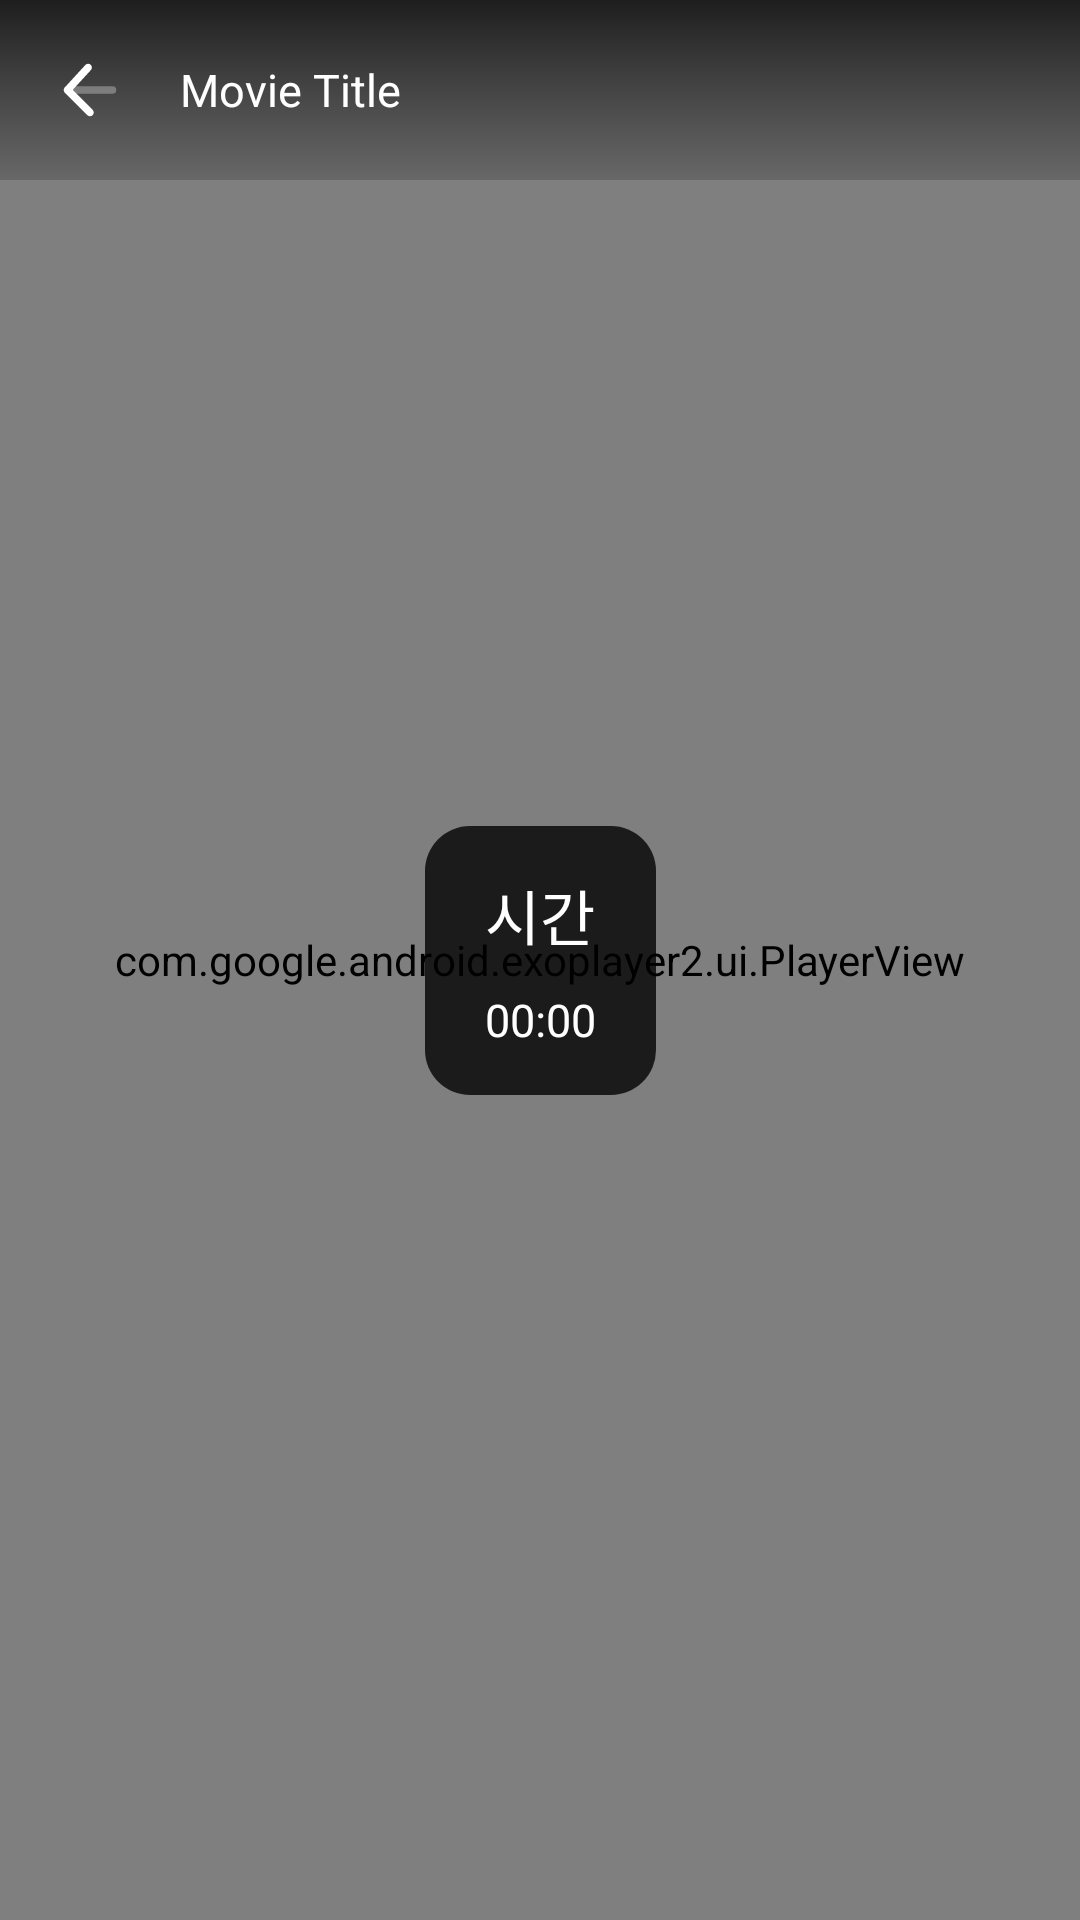

Named icons in this screenshot (1080px x 1920px) and their centers, (x=x, y=y):
arrow left: (x=90, y=90)
